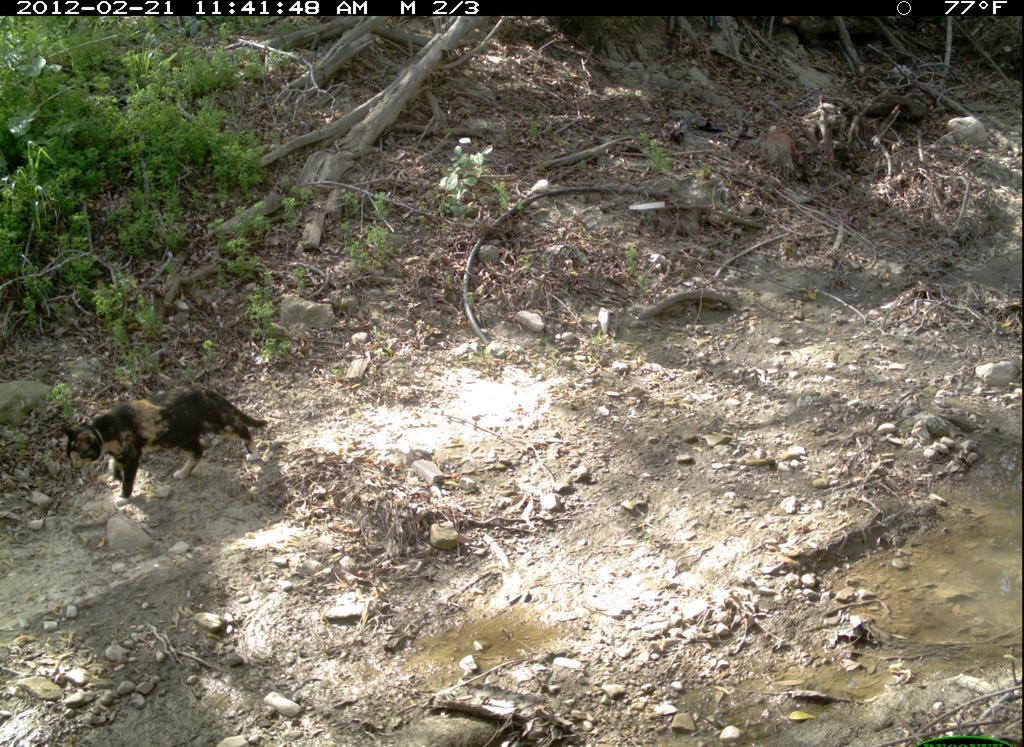cat: (41, 385, 273, 515)
